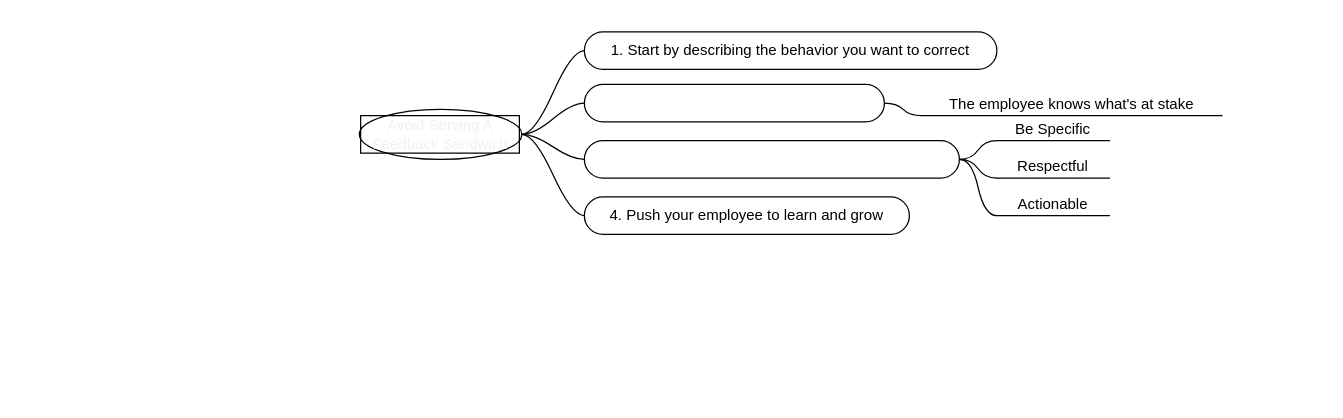
Image size: 1343x418. Some labels were removed from this diagram. The box of each missing label's shape, as (x1, y1, x2, y2) in pixels:
2. Explain the impact of the behavior: (583, 83, 884, 122)
3. Lay out what you would like them to do instead: (583, 139, 959, 178)
